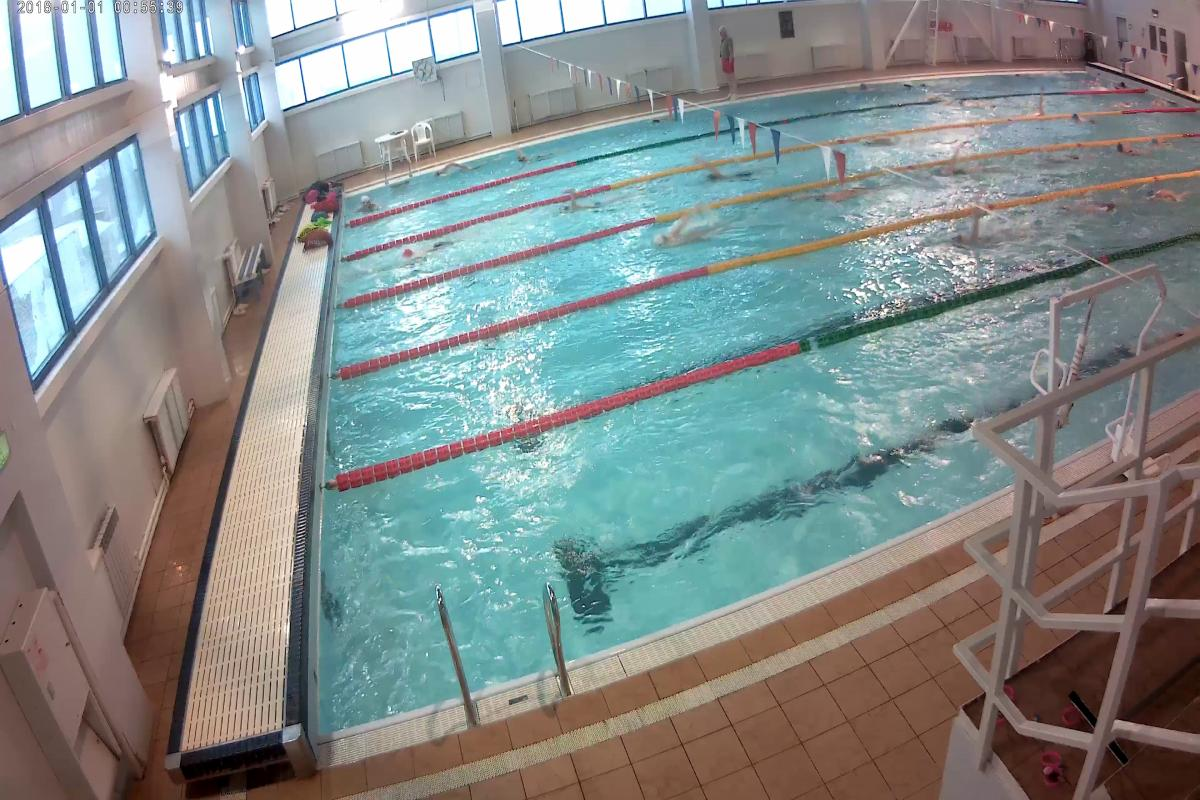swimmer: (642, 218, 746, 252), (816, 175, 902, 215), (942, 220, 1030, 254), (386, 240, 469, 266), (927, 158, 1002, 182), (1072, 193, 1140, 219), (1140, 175, 1190, 208), (1026, 146, 1086, 170), (563, 194, 626, 216), (1108, 136, 1154, 155), (703, 167, 762, 180)
